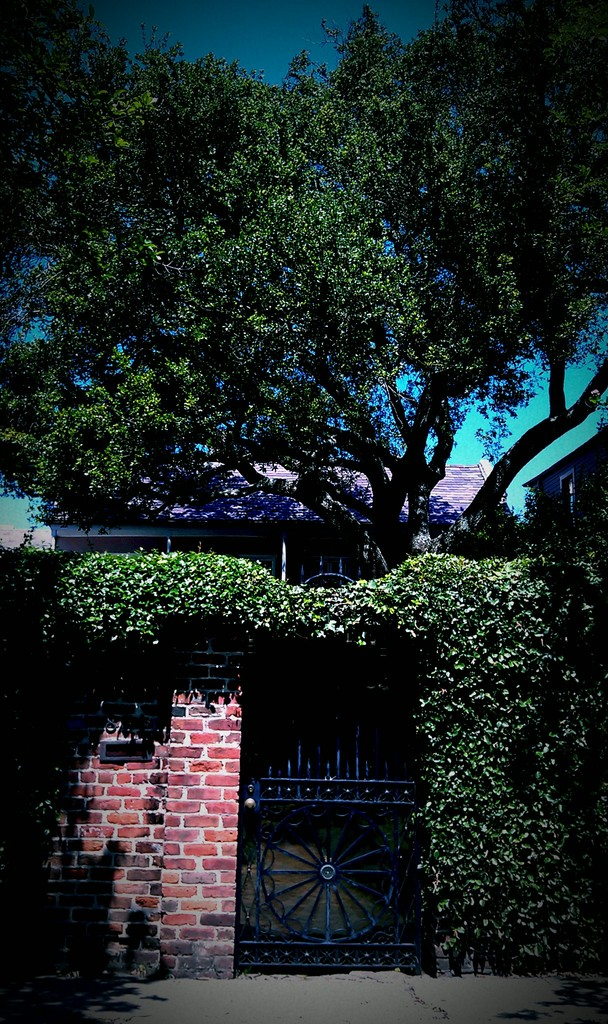Tree: (0, 0, 607, 575)
